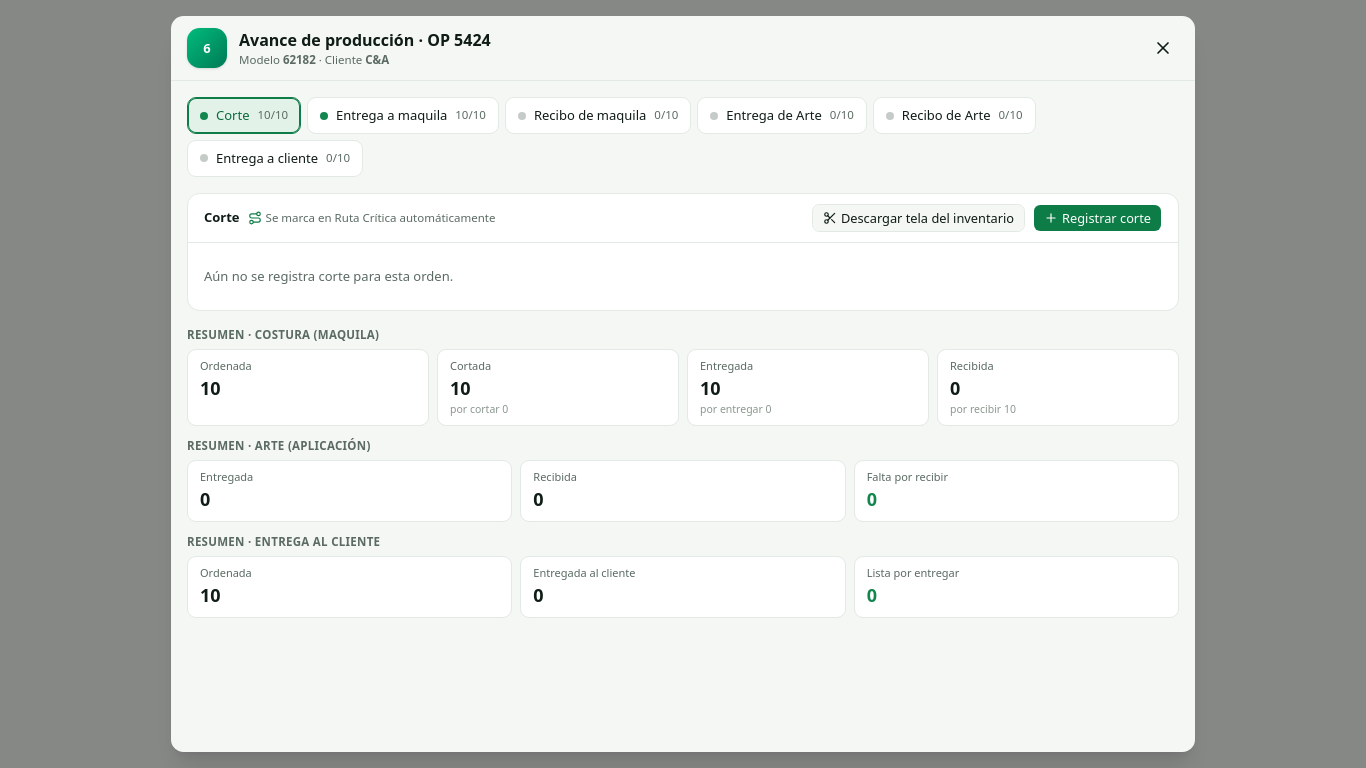
Test: Captura del avance · recibo de maquila › solo ofrece a los maquileros con entrega viva, con lo que les falta devolver
What coordinates should you click on to do the following:
click the tab with test id "avance-stepper-recibo-maquila"
I would click on:
 (598, 116)
Its box is [505,97,691,134].
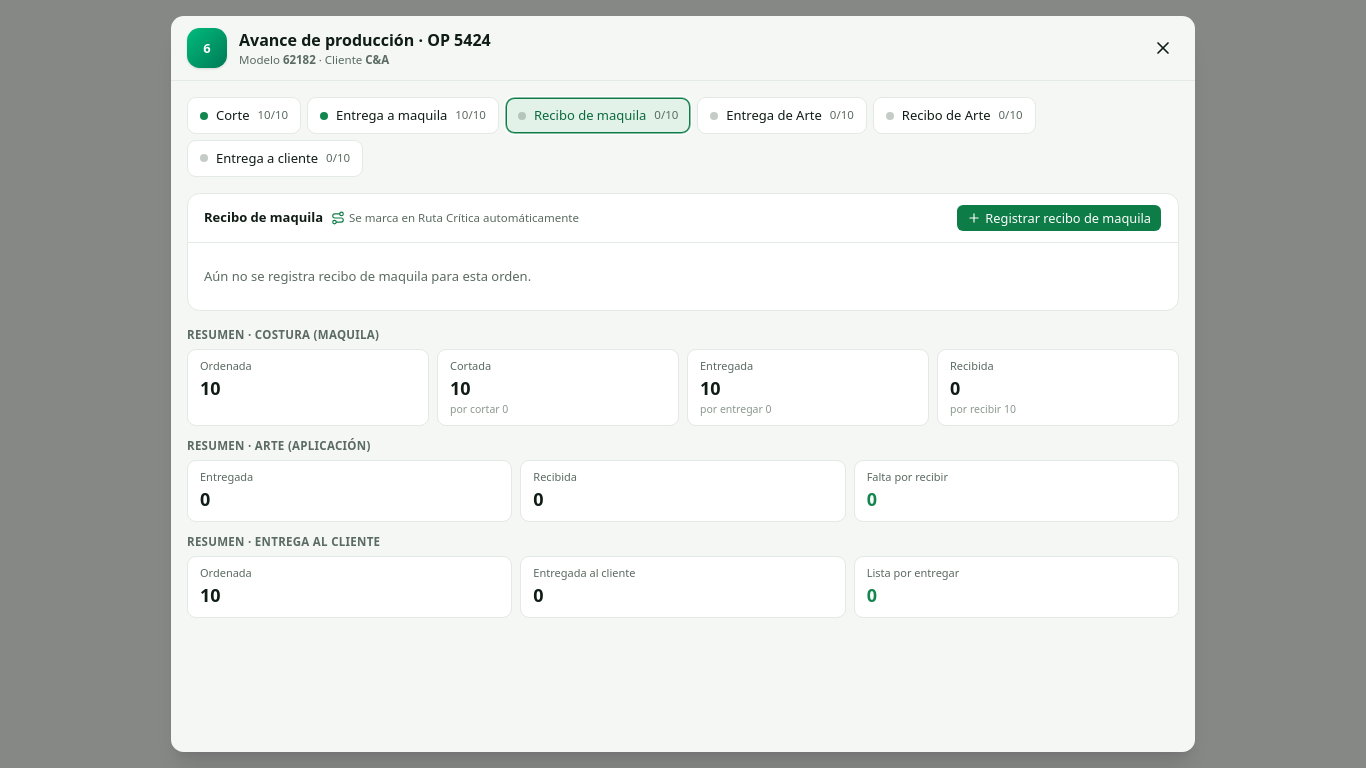
What coordinates should you click on to do the following:
click the button with test id "avance-abrir-captura"
I would click on:
 (1059, 218)
Its box is [956,204,1162,232].
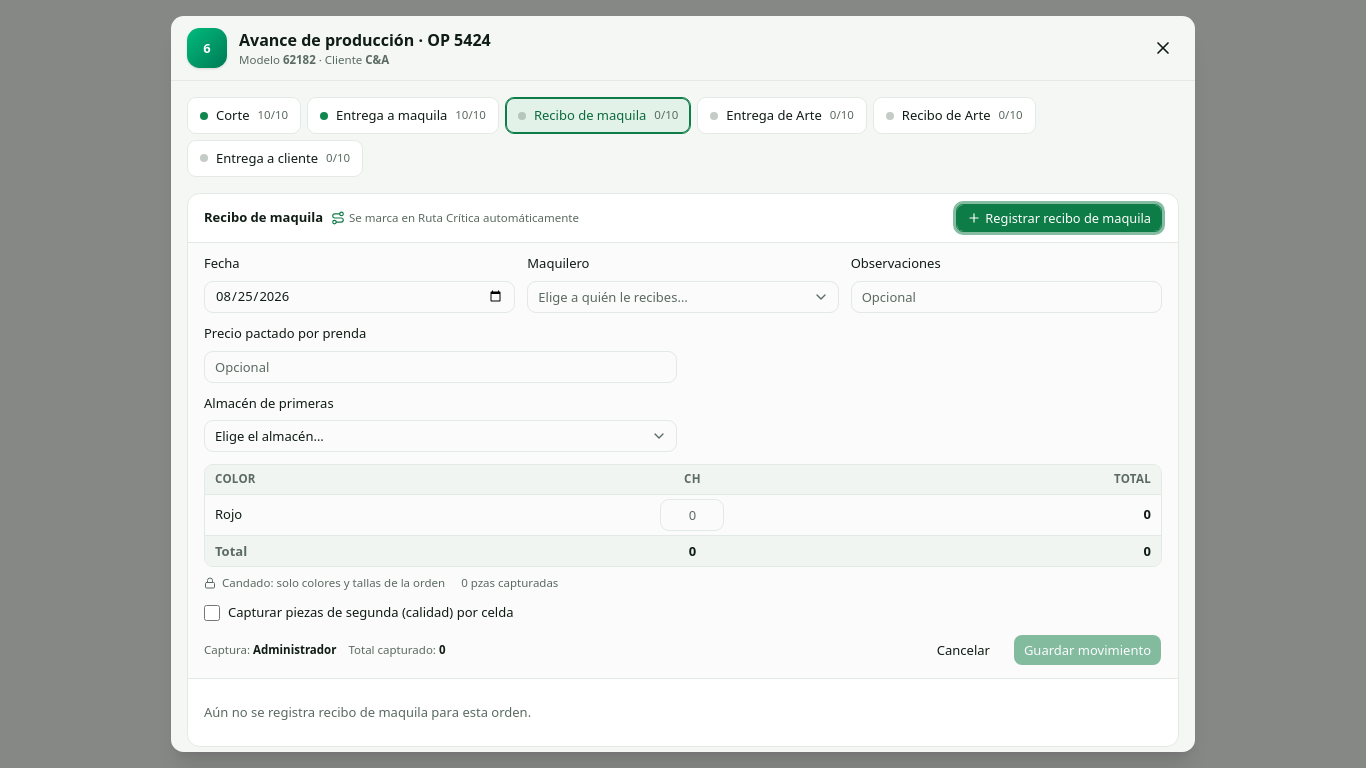
Now the dropdown with test id "avance-proveedor-input" is empty
What coordinates should you click on to do the following:
click the dropdown with test id "avance-proveedor-input"
I would click on:
 (683, 297)
Its box is [527,281,839,313].
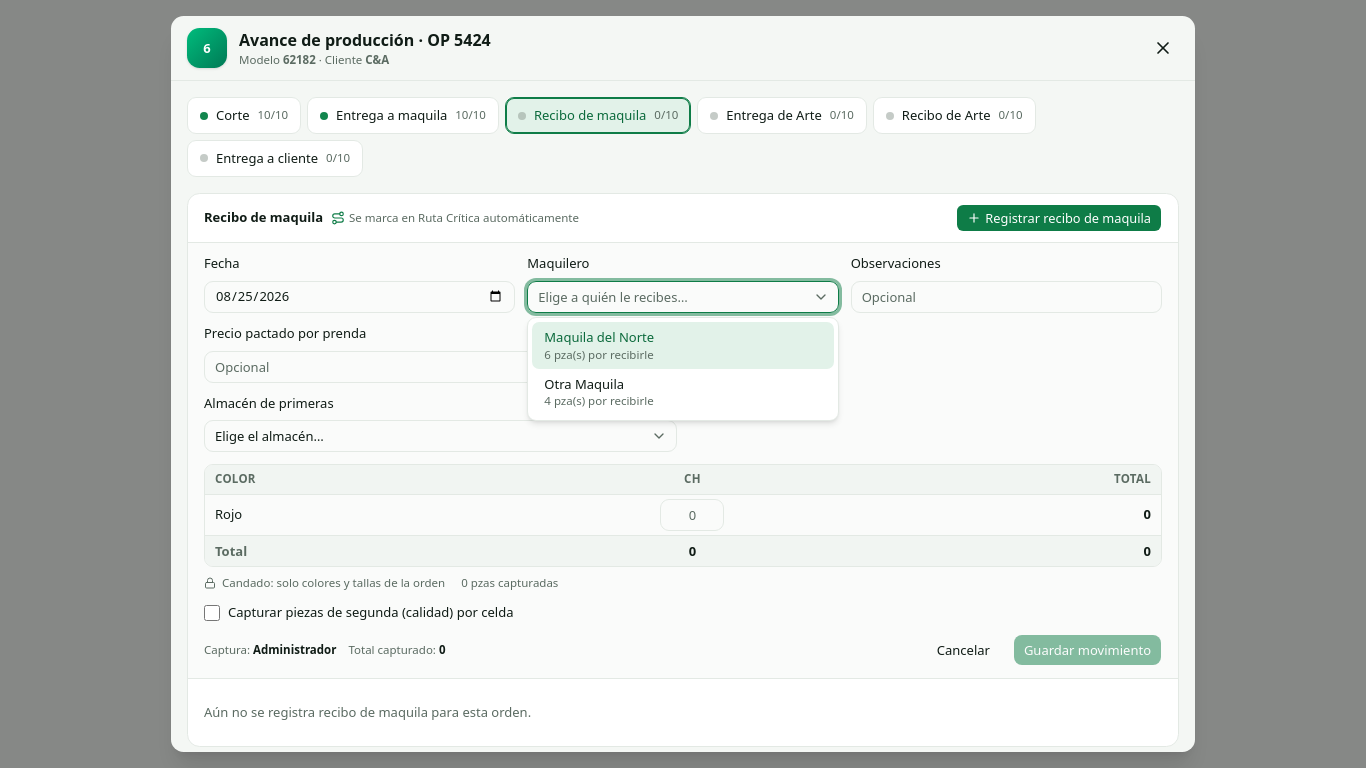
Now the text "Maquila del Norte" is shown, box [544,328,654,346]
Now the text "Otra Maquila" is shown, box [544,375,624,393]
Now the text "6 pza(s) por recibirle" is shown, box [544,346,654,363]
